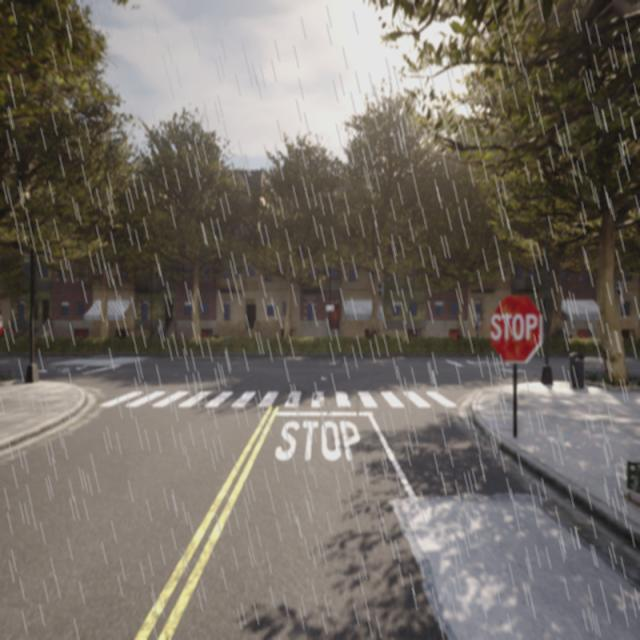stop sign: (487, 291, 545, 366)
